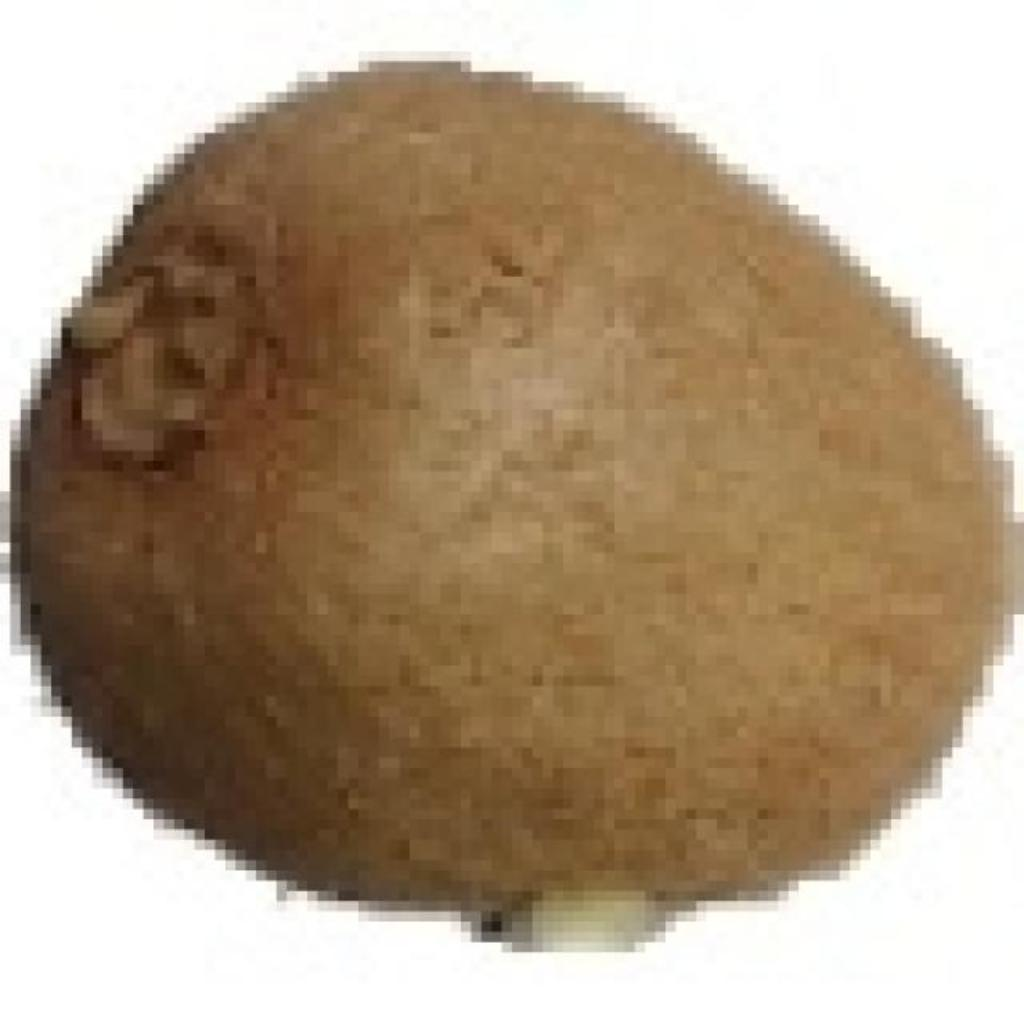kiwi: (31, 51, 1014, 922)
